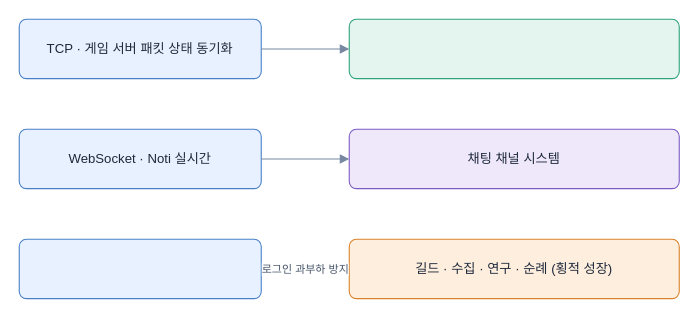
Some shapes in this 699 by 318 pixel diagram are drawn without their labels. The shapes that lost their labels are listed below. From the top down, each one's box as (x1, y1, x2, y2) in pixels, then its label:
(348, 18, 679, 79): 리텐션 리워드 · 데미지 미터 · 세금
(18, 238, 261, 299): HTTP API · 지연 조회 화면 진입 시
